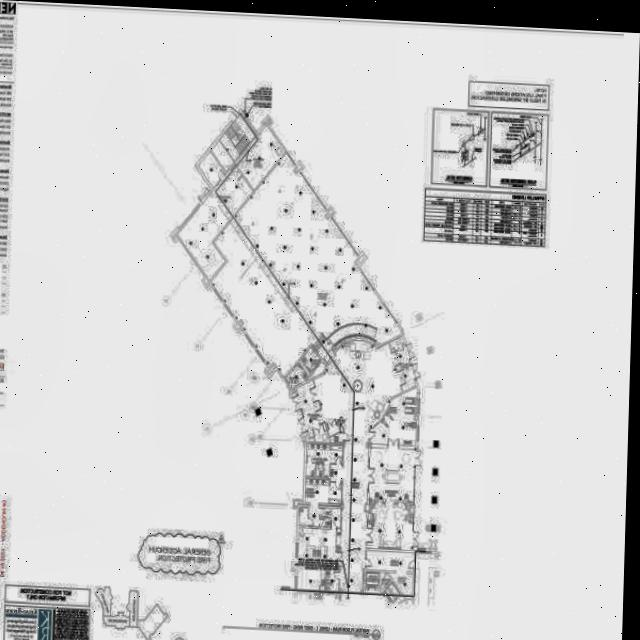room: (368, 448, 416, 550), (297, 528, 337, 592), (295, 380, 328, 438), (305, 444, 343, 477), (366, 551, 415, 572), (282, 363, 309, 390), (299, 346, 324, 373), (304, 479, 330, 504), (330, 482, 342, 504), (313, 431, 330, 446), (309, 505, 319, 527), (331, 509, 341, 528), (299, 507, 308, 526), (327, 425, 341, 437), (306, 463, 316, 476), (316, 464, 323, 477), (320, 508, 330, 517), (320, 518, 330, 527), (335, 432, 343, 442)
